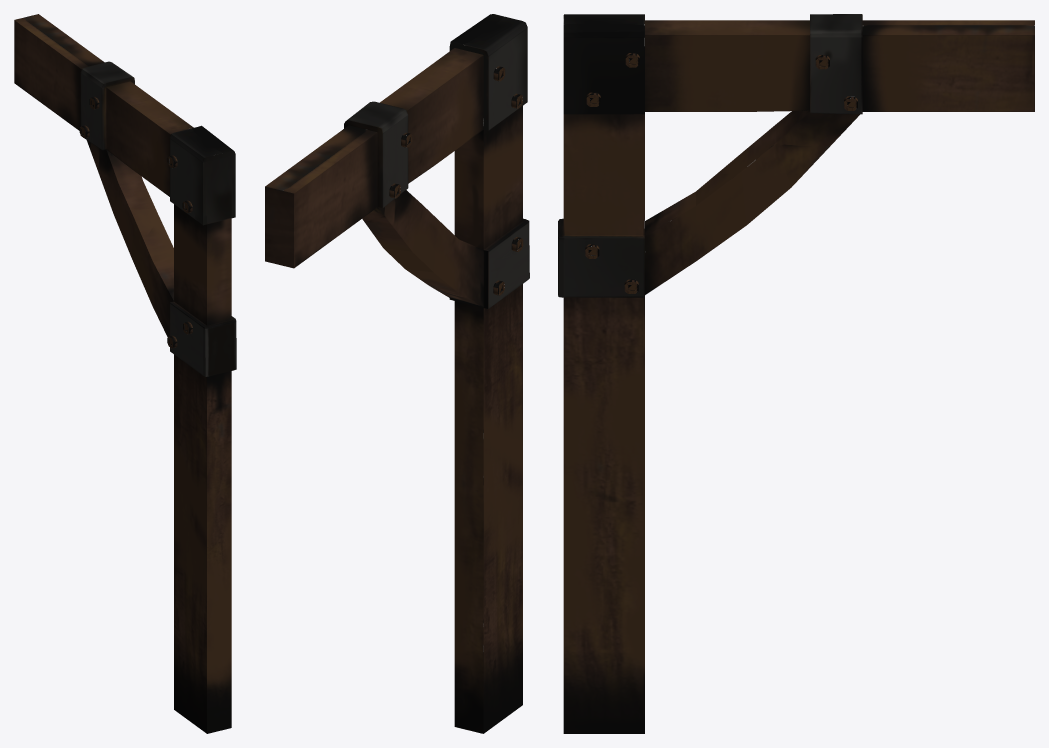
The model's file is final_supportBeam (1).FBX.
The picture shows the model from 3 angles, left to right: view 1: azimuth 30°, elevation 25°; view 2: azimuth 150°, elevation 25°; view 3: azimuth 270°, elevation 25°; orthographic projection. The views are drawn at different scales.
Parts seen in each view (by area): view 1: Box001; view 2: Box001; view 3: Box001.
Boxes of the visible parts, bbox=[...] form: Box001: bbox=[14, 14, 236, 733]; Box001: bbox=[265, 14, 529, 733]; Box001: bbox=[558, 14, 1034, 733].
Size of the model in its own units: 0.5313 by 6.77 by 4.15.
